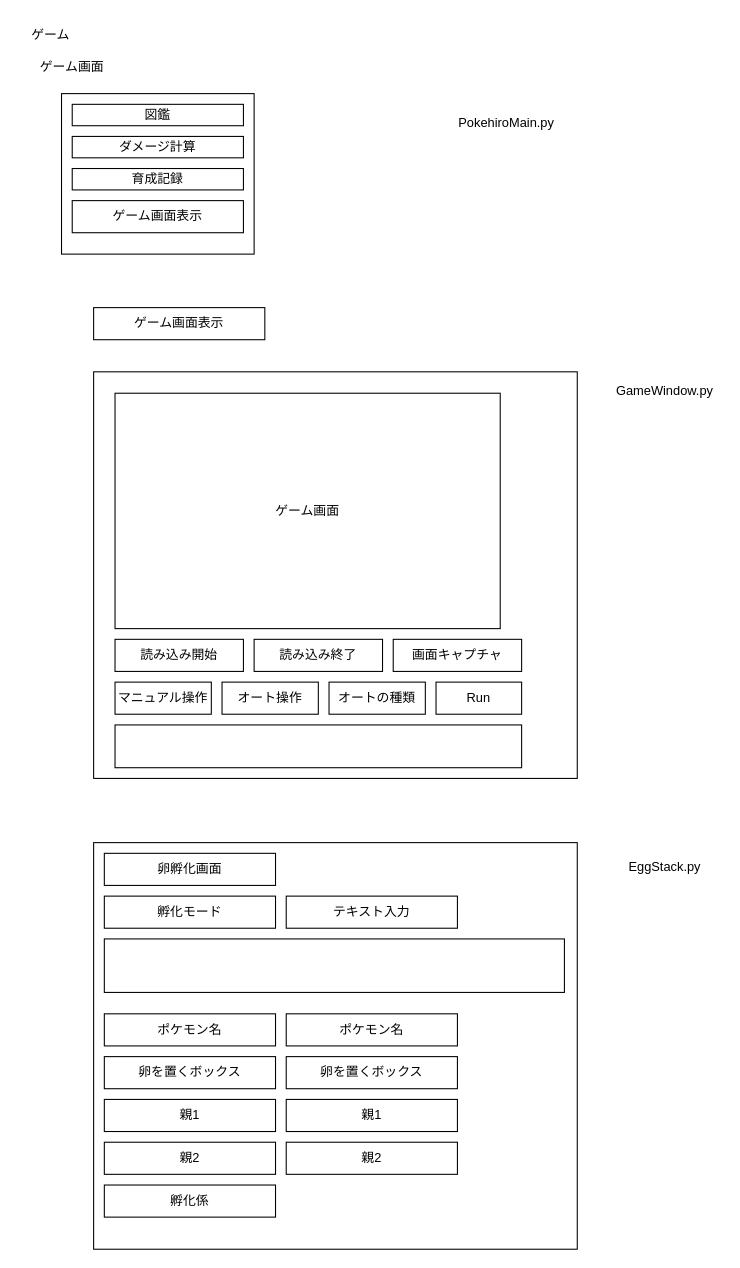
The diagram is 740 pixels wide and 1268 high, and some of its shapes have lost their labels. Each missing label, with the centre of its shape:
"ログ" belongs at point 318,746.
"過去にセットしたポケモンの画像" belongs at point 333,965.
